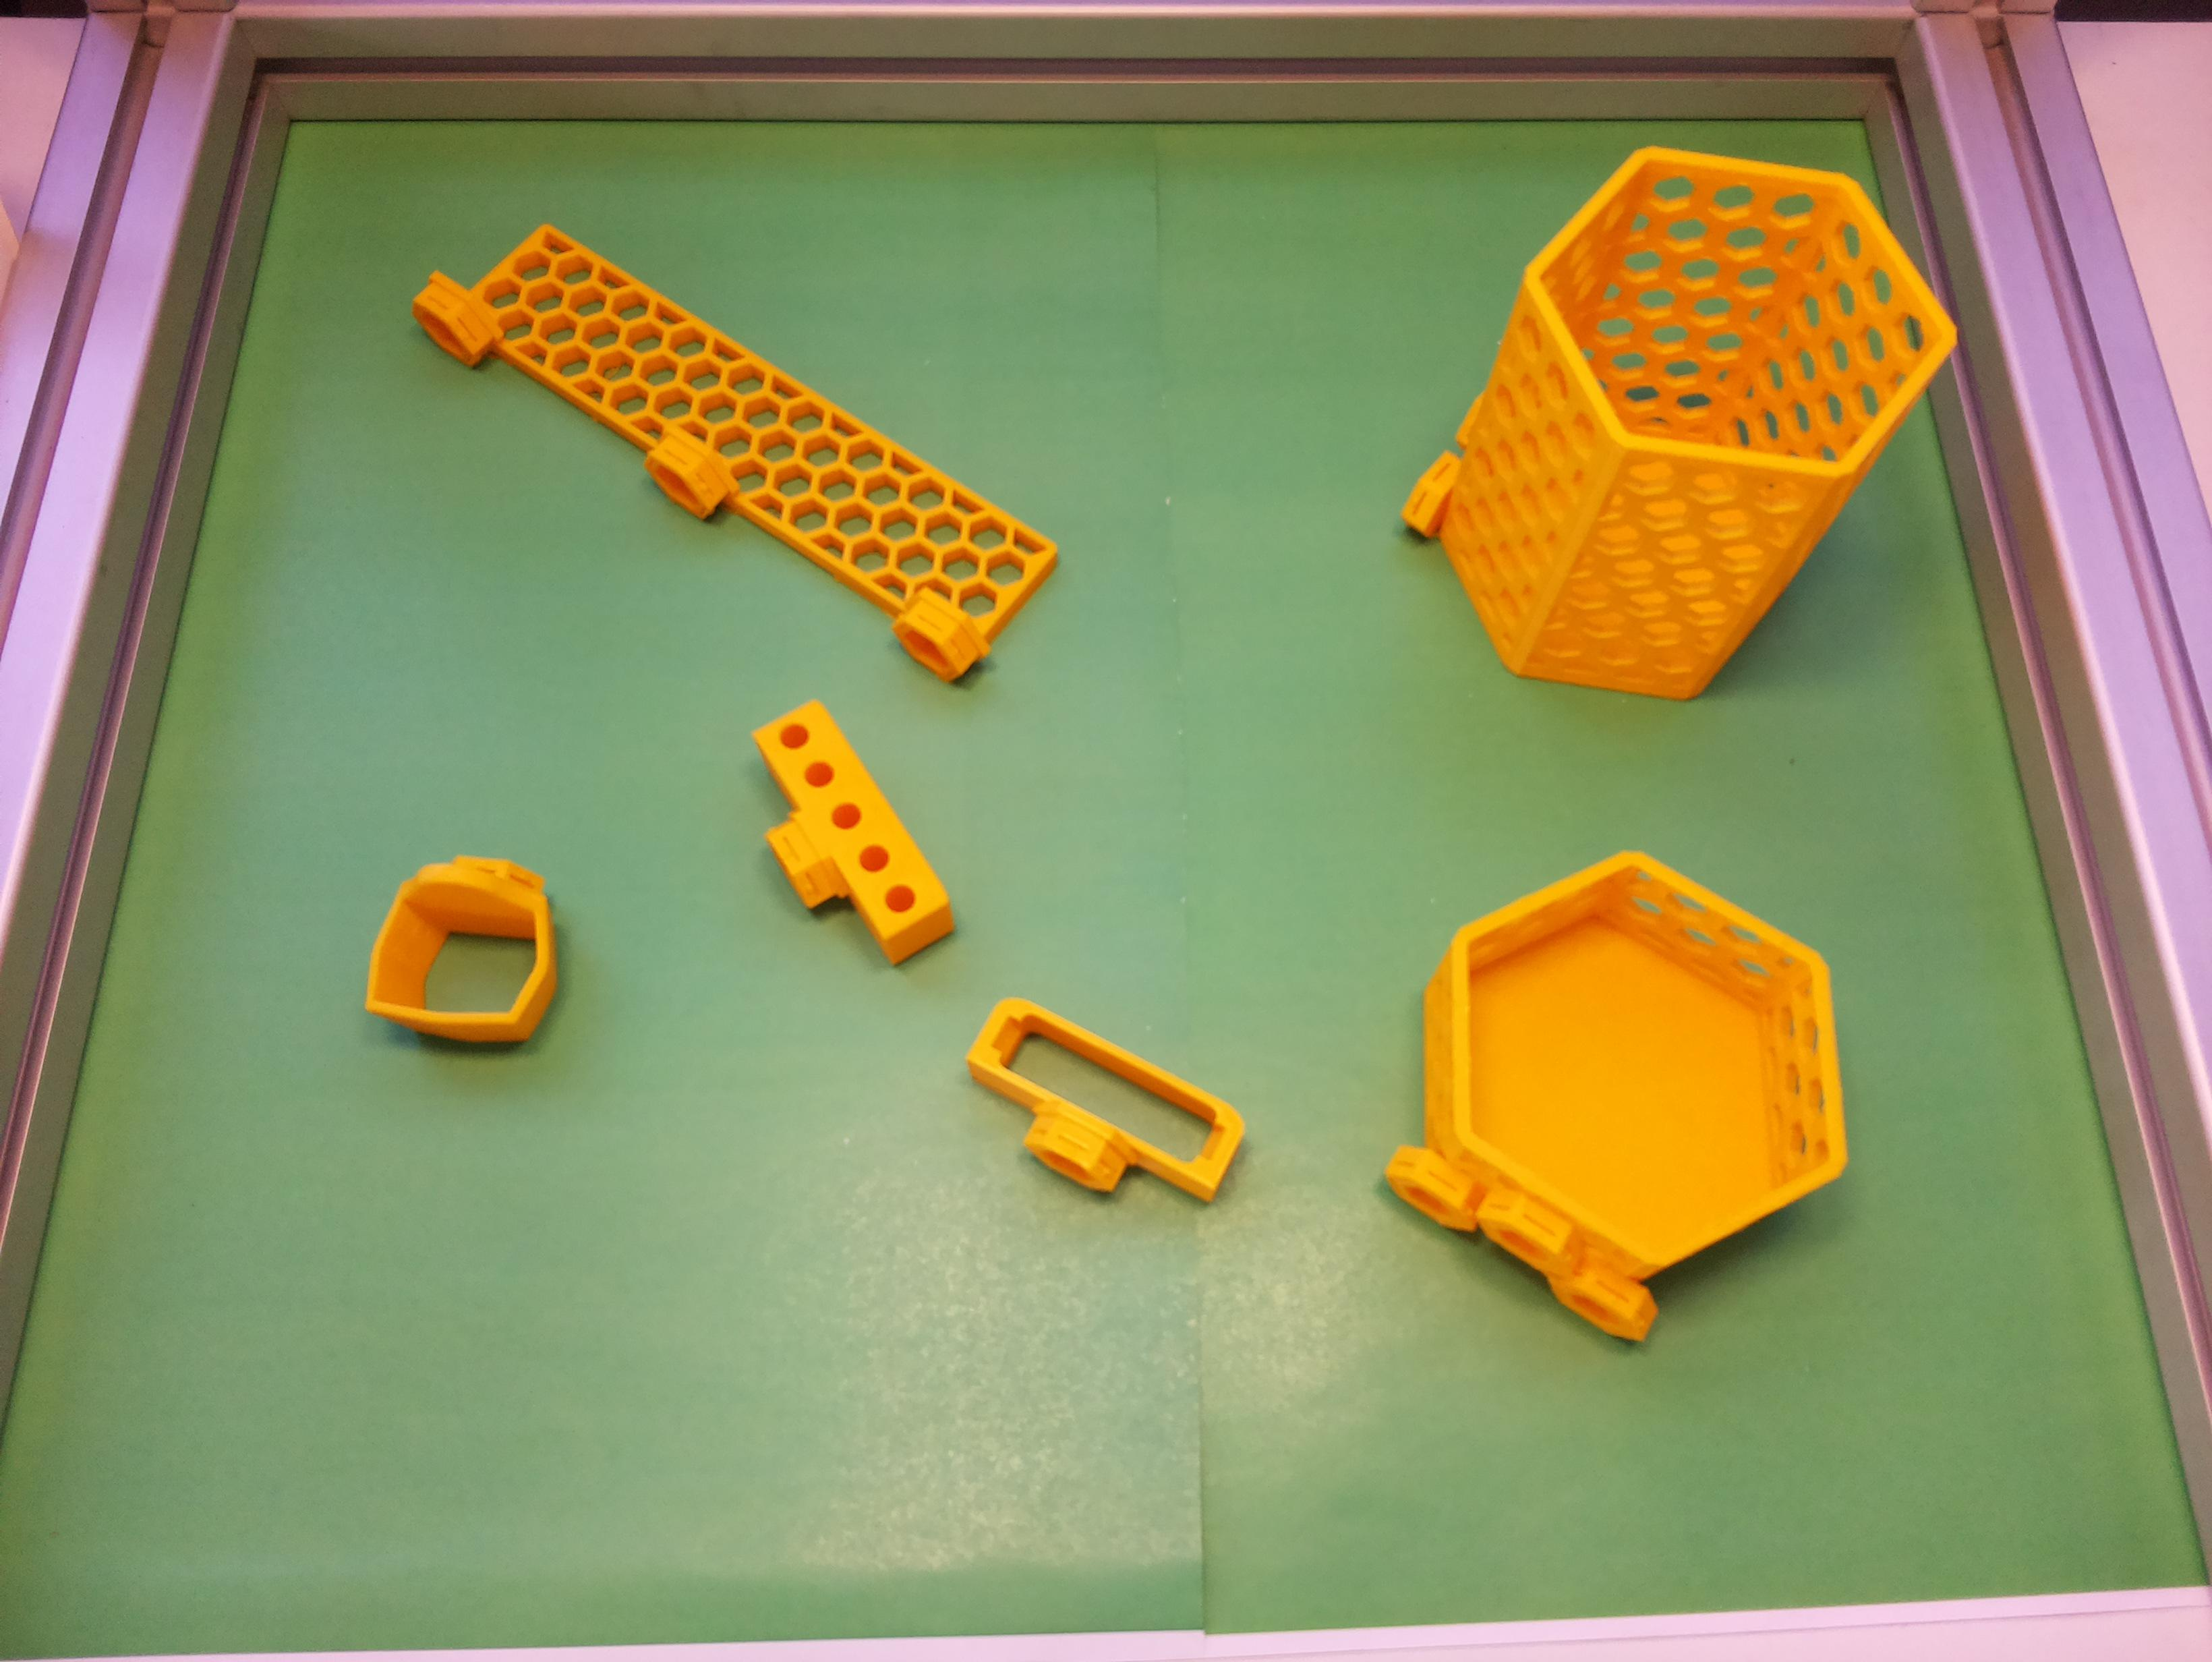bit_holder: (709, 690, 967, 992)
bottle_holder: (1323, 794, 1929, 1393)
cup_holder: (1334, 58, 1999, 772)
cutter_holder: (939, 988, 1255, 1240)
scissor_holder: (363, 848, 567, 1049)
tool_holder: (393, 185, 1065, 697)
